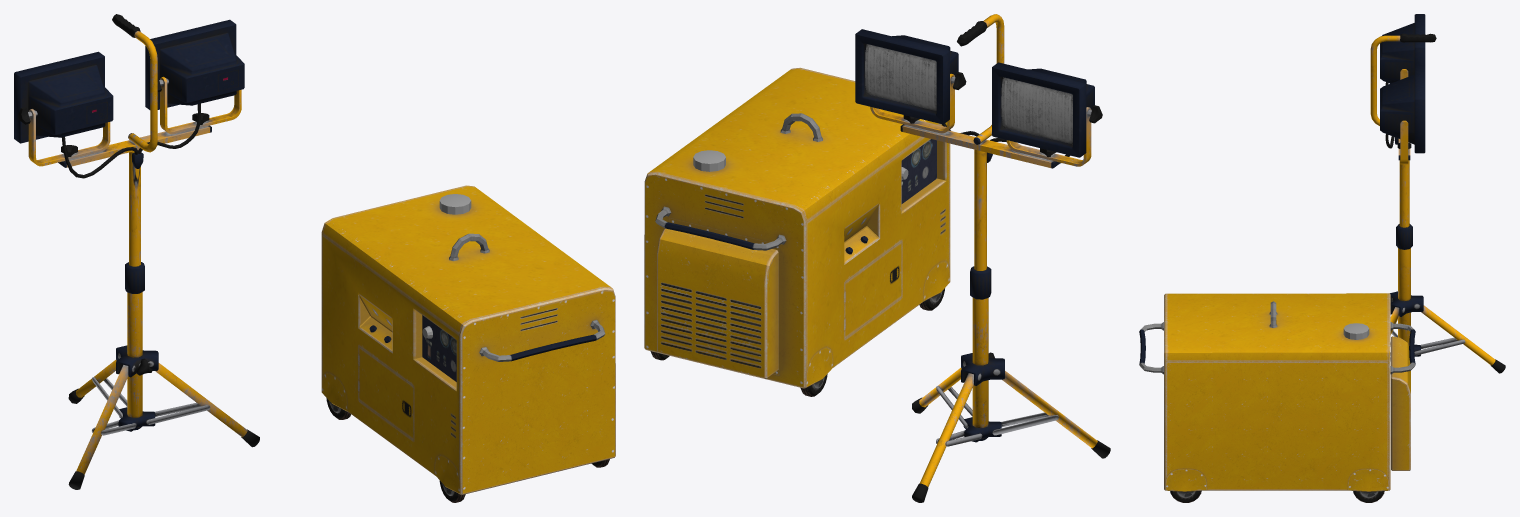
File: Light.FBX
The picture shows the model from 3 angles, left to right: view 1: azimuth 30°, elevation 25°; view 2: azimuth 150°, elevation 25°; view 3: azimuth 270°, elevation 25°; orthographic projection. The views are drawn at different scales.
Parts seen in each view (by area): view 1: body_lp, zlaczka_lp; view 2: body_lp, zlaczka_lp; view 3: body_lp, zlaczka_lp.
Part boxes in pixels (left/top/right/bottom): body_lp: left=321, top=185, right=615, bottom=502; zlaczka_lp: left=14, top=14, right=259, bottom=489; body_lp: left=644, top=67, right=950, bottom=396; zlaczka_lp: left=855, top=14, right=1110, bottom=502; body_lp: left=1139, top=293, right=1415, bottom=502; zlaczka_lp: left=1370, top=14, right=1505, bottom=373.
Bounding box in the file's own units: 859 × 748 × 765.
